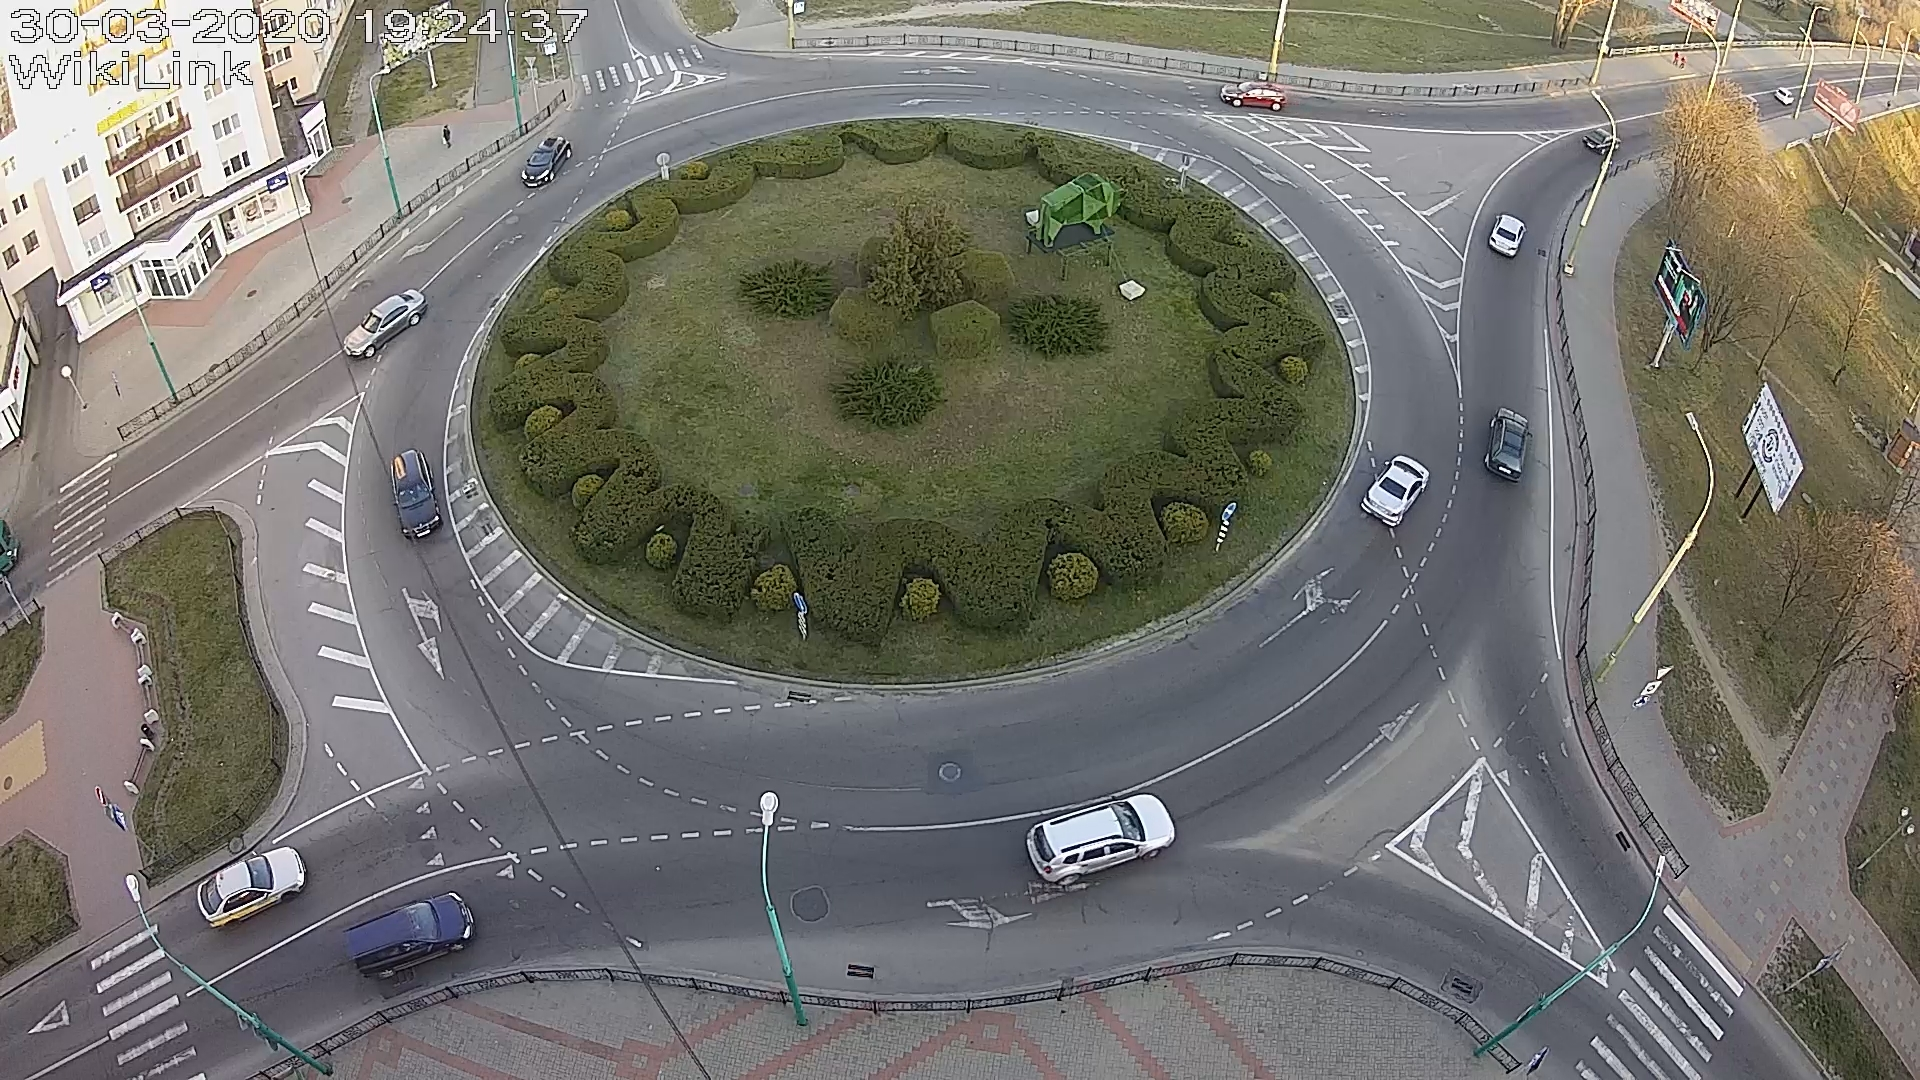car: (1025, 794, 1176, 886), (342, 891, 476, 978), (196, 847, 307, 930), (343, 289, 427, 360), (1361, 454, 1431, 527), (388, 450, 443, 541), (1484, 406, 1534, 483), (522, 135, 572, 189), (1218, 80, 1287, 112), (1489, 212, 1527, 258), (1582, 128, 1622, 154)
